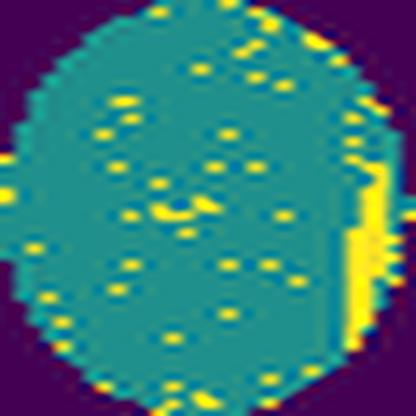Loc: (344, 151, 402, 354)
